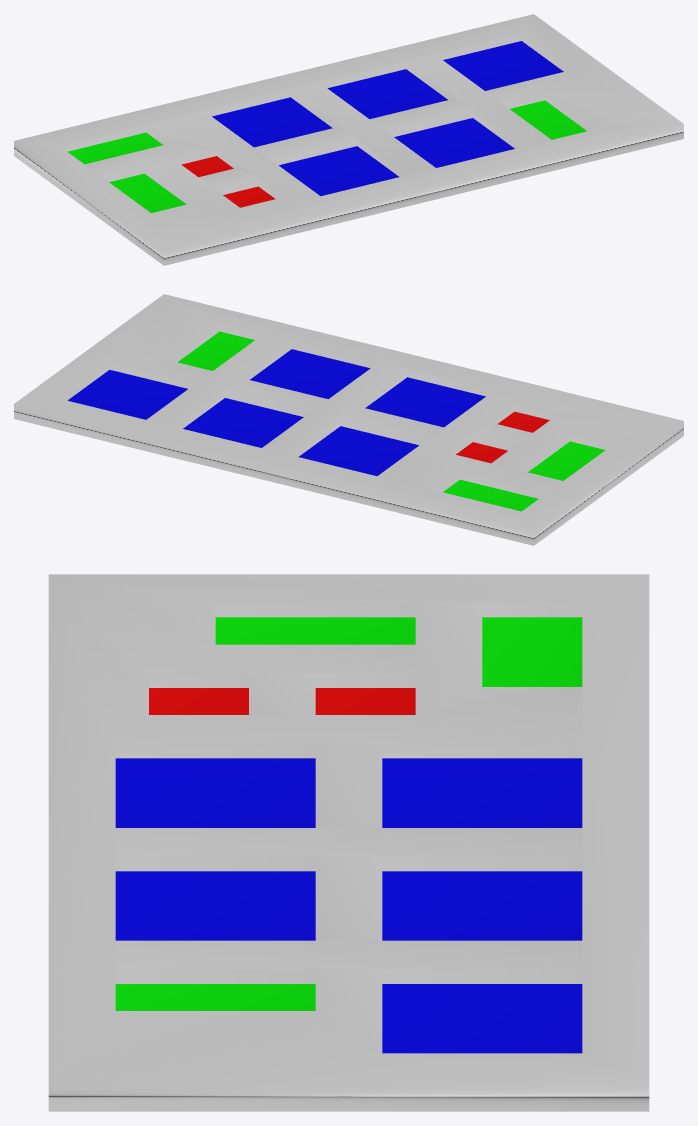
File: kit3.fbx
The picture shows the model from 3 angles, top to bottom: view 1: azimuth 30°, elevation 25°; view 2: azimuth 150°, elevation 25°; view 3: azimuth 270°, elevation 25°; orthographic projection. The views are drawn at different scales.
Visible parts, largest first — view 1: Cube; view 2: Cube; view 3: Cube.
Part boxes in pixels (<box>): Cube: <box>14,14,683,265</box>; Cube: <box>14,294,683,545</box>; Cube: <box>48,574,649,1111</box>.
Size of the model in its own units: 229 by 6.35 by 114.
